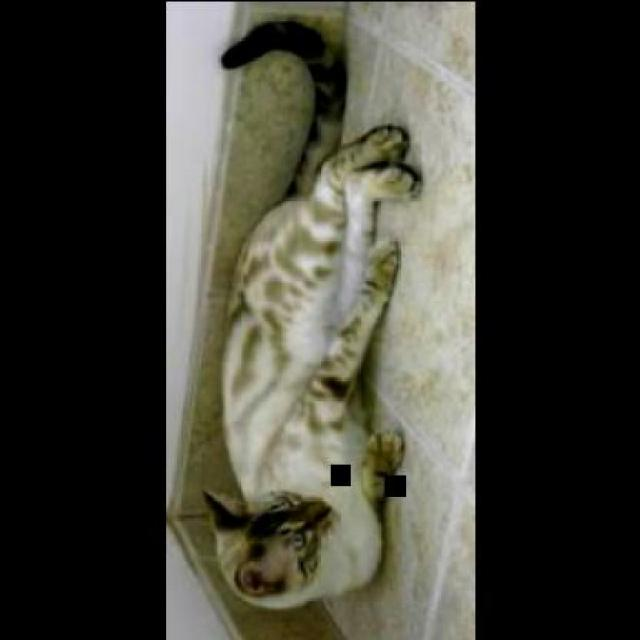unauthorized: (200, 11, 422, 612), (218, 15, 348, 197)
